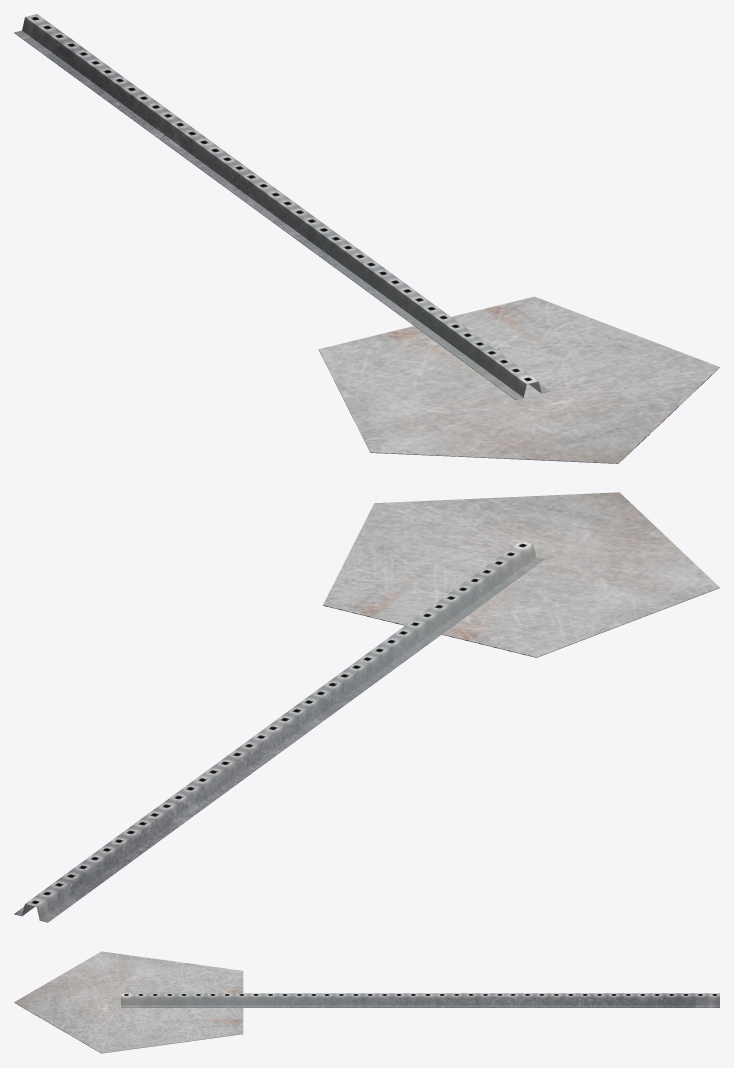
File: tree_sign.dae
3 renders of one model, top to bottom at view 1: azimuth 30°, elevation 25°; view 2: azimuth 150°, elevation 25°; view 3: azimuth 270°, elevation 25°, orthographic. The views are drawn at different scales.
Parts seen in each view (by area): view 1: NGon004, Box004; view 2: NGon004, Box004; view 3: NGon004, Box004.
Part boxes in pixels (x1,y1,x2,y2): NGon004: (318, 296, 719, 463); Box004: (14, 14, 549, 399); NGon004: (323, 492, 719, 657); Box004: (14, 541, 544, 922); NGon004: (14, 951, 243, 1053); Box004: (121, 993, 719, 1007).
Size of the model in its own units: 630 by 25.37 by 1846.
1 material, 1 textured.
